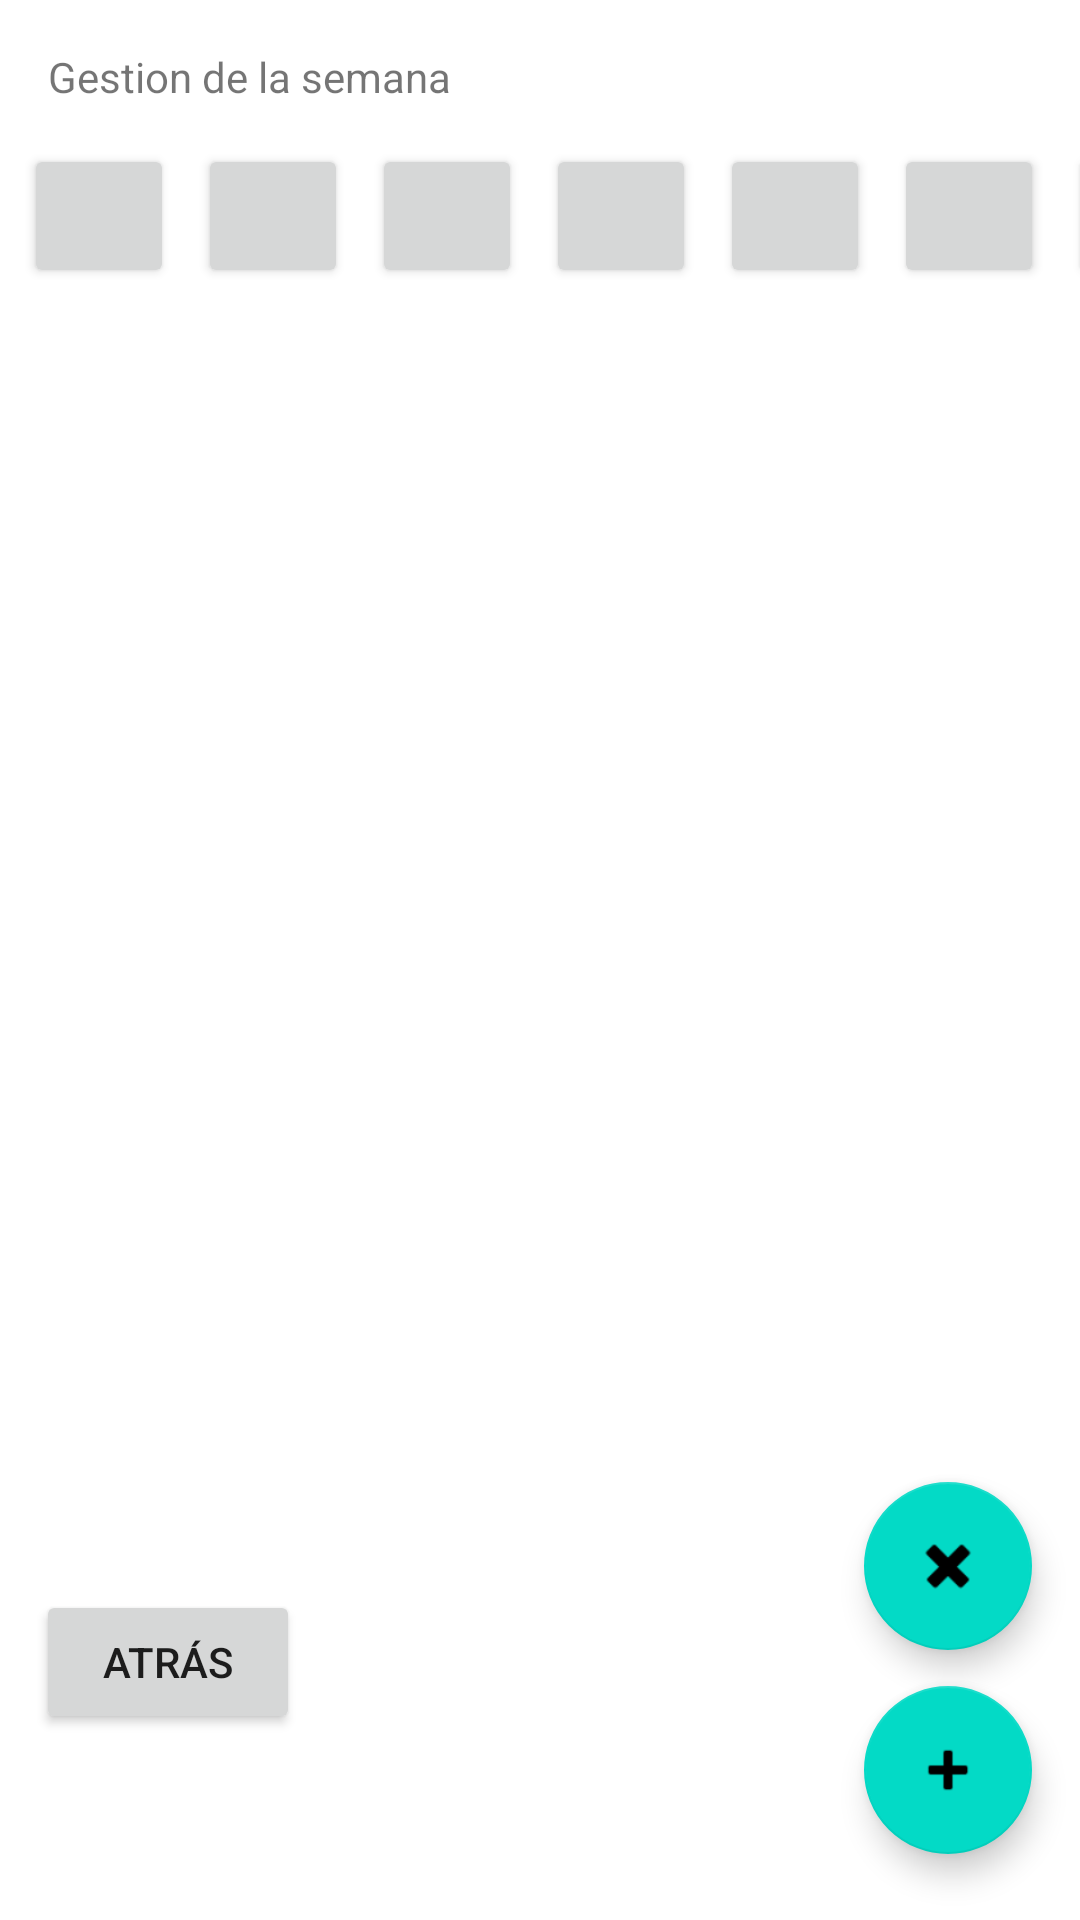

Named icons in this screenshot (1080px×1920px) and their bounding boxes, (x1, y1, x2, y2):
add: (864, 1686, 1032, 1854)
delete: (864, 1482, 1032, 1650)
